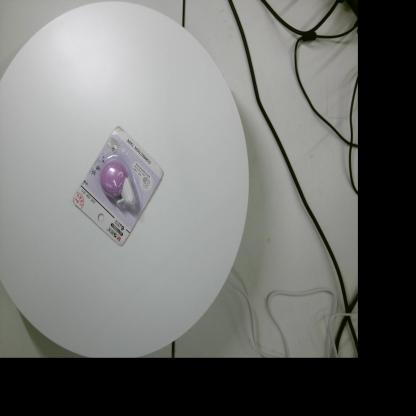Stationery: (73, 126, 164, 247)
